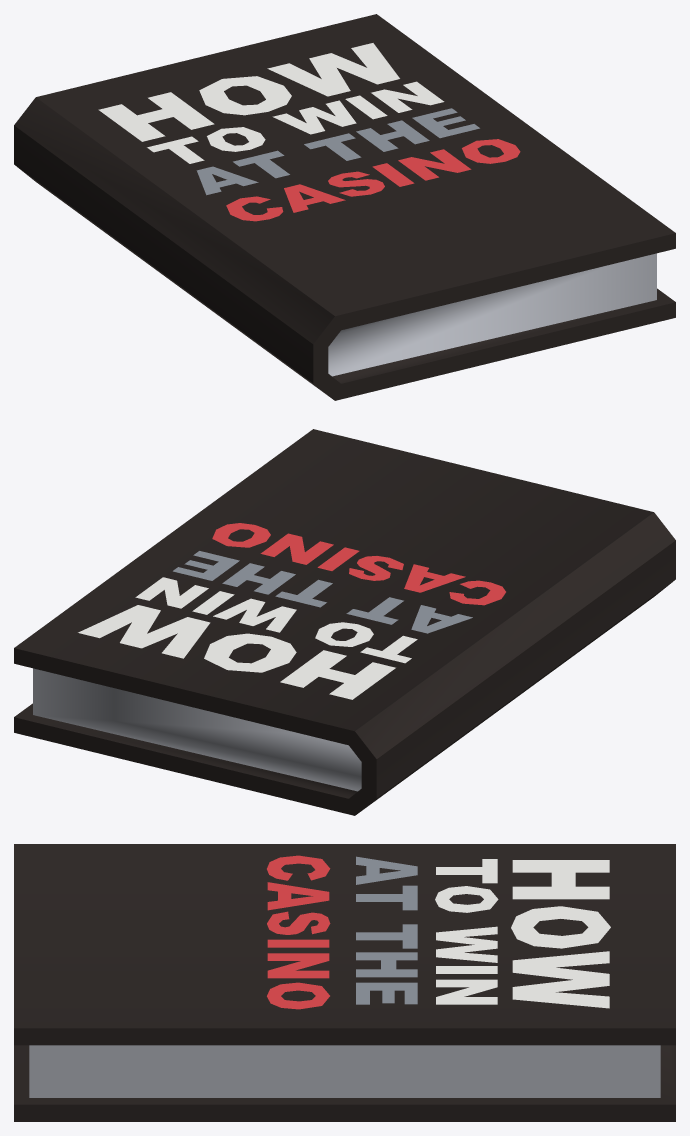
File: livro_cassino_pacote.glb
The picture shows the model from 3 angles, top to bottom: view 1: azimuth 30°, elevation 25°; view 2: azimuth 150°, elevation 25°; view 3: azimuth 270°, elevation 25°; orthographic projection. The views are drawn at different scales.
Parts seen in each view (by area): view 1: livro_cassino_pacote; view 2: livro_cassino_pacote; view 3: livro_cassino_pacote.
Part boxes in pixels (box(x1,y1,x2,y2)): livro_cassino_pacote: box(14, 14, 675, 400); livro_cassino_pacote: box(14, 429, 675, 815); livro_cassino_pacote: box(14, 844, 675, 1121).
Size of the model in its own units: 0.179 by 0.0406 by 0.2558.
1 material, 1 textured.
